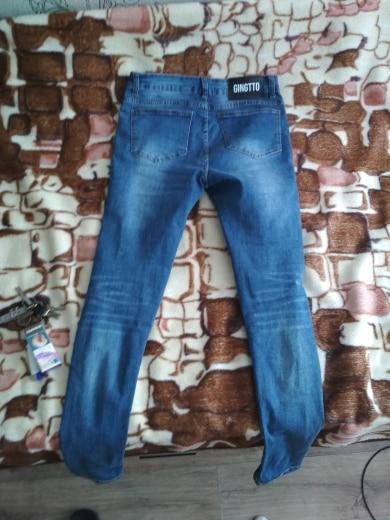jeans: (47, 69, 319, 470)
